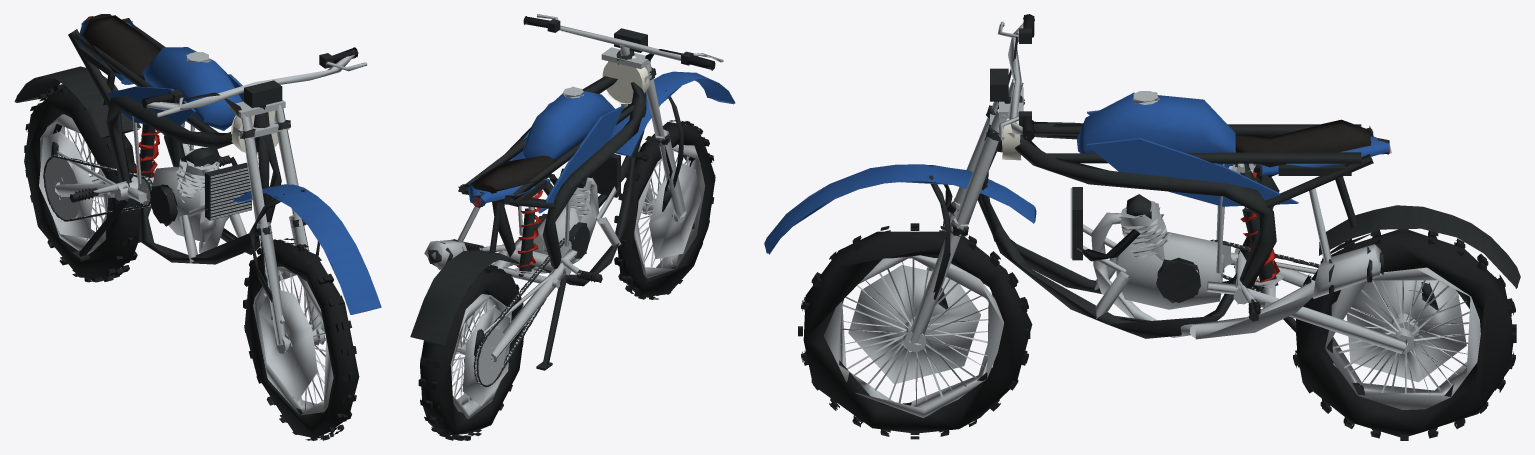
Rendered from moto_cross.glb.
3 views of the same model, side by side, from view 1: azimuth 30°, elevation 25°; view 2: azimuth 150°, elevation 25°; view 3: azimuth 270°, elevation 25° (orthographic). The views are drawn at different scales.
Parts seen in each view (by area): view 1: alloy-Original black finished iron-Motorcycle body, alloy-Original brushed aluminium-Motorcycle body, paint-Original blue outdoor paint-Motorcycle body, rubber-Original fine-grained tyre rubber-wheel-front, rubber-Original fine-grained tyre rubber-wheel-back, alloy-Original polished steel-Motorcycle body, alloy-Original polished steel-wheel-front, rubber-Original black grained saddle leather-Motorcycle body, alloy-Original polished steel-wheel-back, alloy-Original brushed aluminium-wheel-front, alloy-Original brushed aluminium-wheel-back, rubber-Original fine-grained tyre rubber-Motorcycle body (+2 smaller); view 2: alloy-Original black finished iron-Motorcycle body, alloy-Original brushed aluminium-Motorcycle body, paint-Original blue outdoor paint-Motorcycle body, rubber-Original fine-grained tyre rubber-wheel-back, rubber-Original fine-grained tyre rubber-wheel-front, alloy-Original polished steel-Motorcycle body, alloy-Original polished steel-wheel-front, alloy-Original polished steel-wheel-back, alloy-Original brushed aluminium-wheel-front, rubber-Original black grained saddle leather-Motorcycle body, alloy-Original brushed aluminium-wheel-back, paint-Original warm white outdoor paint-Motorcycle body (+2 smaller); view 3: alloy-Original black finished iron-Motorcycle body, rubber-Original fine-grained tyre rubber-wheel-front, paint-Original blue outdoor paint-Motorcycle body, rubber-Original fine-grained tyre rubber-wheel-back, alloy-Original brushed aluminium-Motorcycle body, alloy-Original polished steel-wheel-front, alloy-Original polished steel-Motorcycle body, alloy-Original polished steel-wheel-back, alloy-Original brushed aluminium-wheel-back, alloy-Original brushed aluminium-wheel-front, rubber-Original black grained saddle leather-Motorcycle body, rubber-Original fine-grained tyre rubber-Motorcycle body.
Part boxes in pixels (bbox=[...]): alloy-Original black finished iron-Motorcycle body: bbox=[14, 16, 333, 319]; alloy-Original brushed aluminium-Motorcycle body: bbox=[45, 62, 367, 353]; paint-Original blue outdoor paint-Motorcycle body: bbox=[77, 19, 381, 314]; rubber-Original fine-grained tyre rubber-wheel-front: bbox=[243, 238, 359, 440]; rubber-Original fine-grained tyre rubber-wheel-back: bbox=[24, 84, 140, 282]; alloy-Original polished steel-Motorcycle body: bbox=[45, 50, 354, 253]; alloy-Original polished steel-wheel-front: bbox=[259, 270, 325, 411]; rubber-Original black grained saddle leather-Motorcycle body: bbox=[82, 14, 159, 80]; alloy-Original polished steel-wheel-back: bbox=[39, 128, 105, 239]; alloy-Original brushed aluminium-wheel-front: bbox=[253, 266, 333, 415]; alloy-Original brushed aluminium-wheel-back: bbox=[40, 114, 107, 254]; rubber-Original fine-grained tyre rubber-Motorcycle body: bbox=[75, 47, 358, 285]; alloy-Original black finished iron-Motorcycle body: bbox=[410, 19, 693, 387]; alloy-Original brushed aluminium-Motorcycle body: bbox=[457, 14, 723, 385]; paint-Original blue outdoor paint-Motorcycle body: bbox=[467, 71, 735, 213]; rubber-Original fine-grained tyre rubber-wheel-back: bbox=[418, 265, 524, 440]; rubber-Original fine-grained tyre rubber-wheel-front: bbox=[614, 120, 715, 299]; alloy-Original polished steel-Motorcycle body: bbox=[424, 18, 710, 386]; alloy-Original polished steel-wheel-front: bbox=[639, 151, 700, 268]; alloy-Original polished steel-wheel-back: bbox=[452, 297, 510, 405]; alloy-Original brushed aluminium-wheel-front: bbox=[634, 144, 705, 278]; rubber-Original black grained saddle leather-Motorcycle body: bbox=[470, 155, 556, 193]; alloy-Original brushed aluminium-wheel-back: bbox=[450, 294, 511, 418]; paint-Original warm white outdoor paint-Motorcycle body: bbox=[602, 52, 650, 103]; alloy-Original black finished iron-Motorcycle body: bbox=[929, 28, 1520, 338]; rubber-Original fine-grained tyre rubber-wheel-front: bbox=[798, 223, 1032, 439]; paint-Original blue outdoor paint-Motorcycle body: bbox=[764, 92, 1389, 254]; rubber-Original fine-grained tyre rubber-wheel-back: bbox=[1293, 229, 1516, 440]; alloy-Original brushed aluminium-Motorcycle body: bbox=[901, 21, 1423, 353]; alloy-Original polished steel-wheel-front: bbox=[840, 259, 988, 406]; alloy-Original polished steel-Motorcycle body: bbox=[951, 22, 1381, 339]; alloy-Original polished steel-wheel-back: bbox=[1332, 280, 1469, 394]; alloy-Original brushed aluminium-wheel-back: bbox=[1325, 267, 1480, 409]; alloy-Original brushed aluminium-wheel-front: bbox=[824, 255, 1003, 418]; rubber-Original black grained saddle leather-Motorcycle body: bbox=[1235, 119, 1371, 167]; rubber-Original fine-grained tyre rubber-Motorcycle body: bbox=[984, 14, 1260, 315].
Bounding box in the file's own units: 0.835 × 1.22 × 2.29.
Materials: 9 (9 with a texture image).
